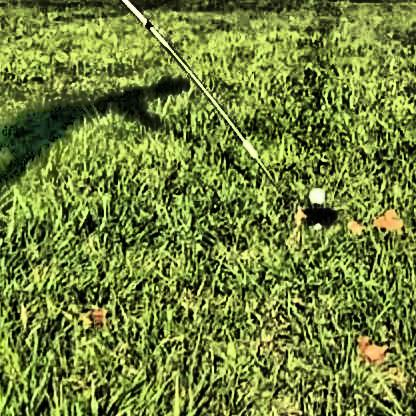golfball: (304, 183, 323, 200)
